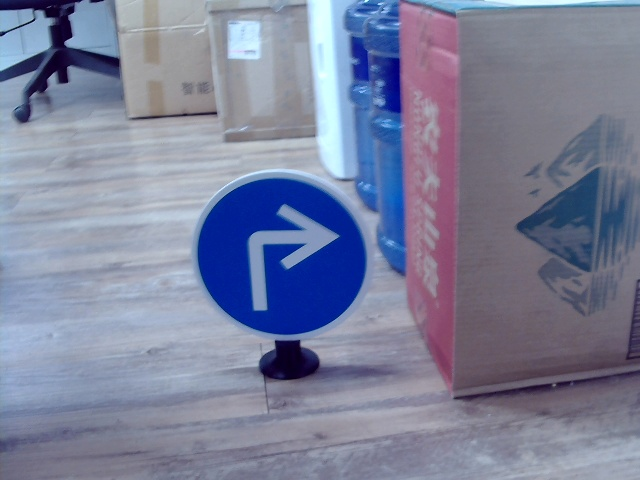turn_right: (231, 203, 333, 312)
